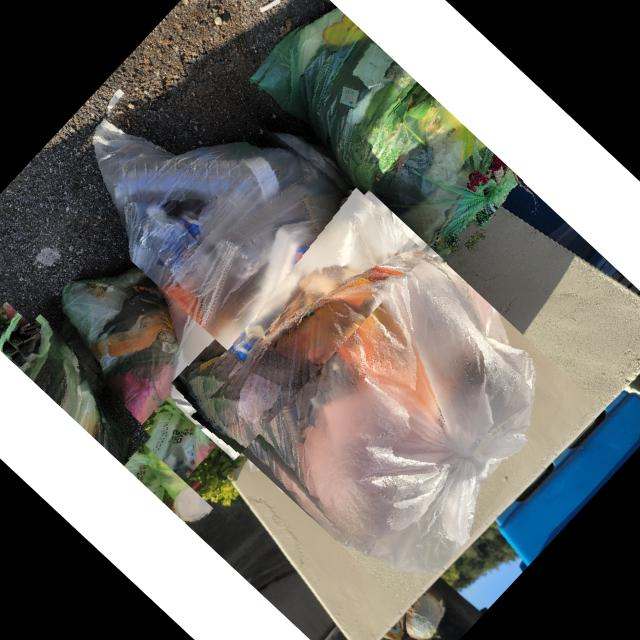general_trashbag: (257, 9, 516, 252), (60, 268, 177, 464), (0, 313, 128, 463), (142, 442, 213, 522), (138, 410, 196, 480)
other_trashbag: (206, 240, 533, 570), (96, 114, 343, 460)
